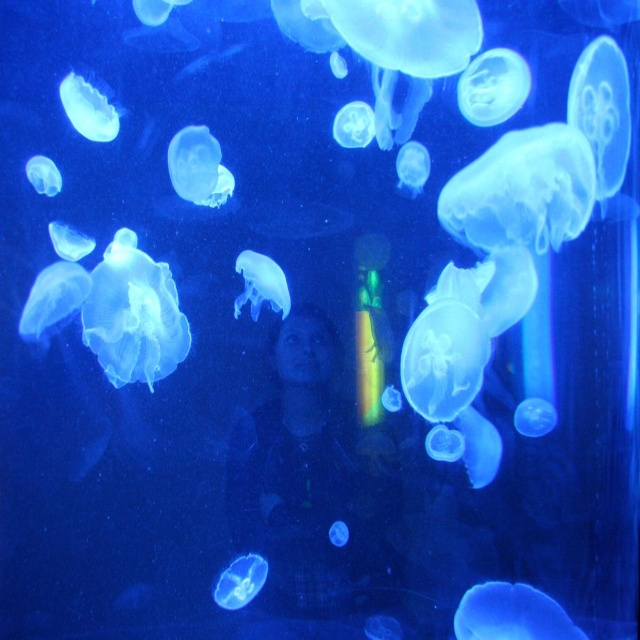Jellyfish: (19, 0, 640, 640)
